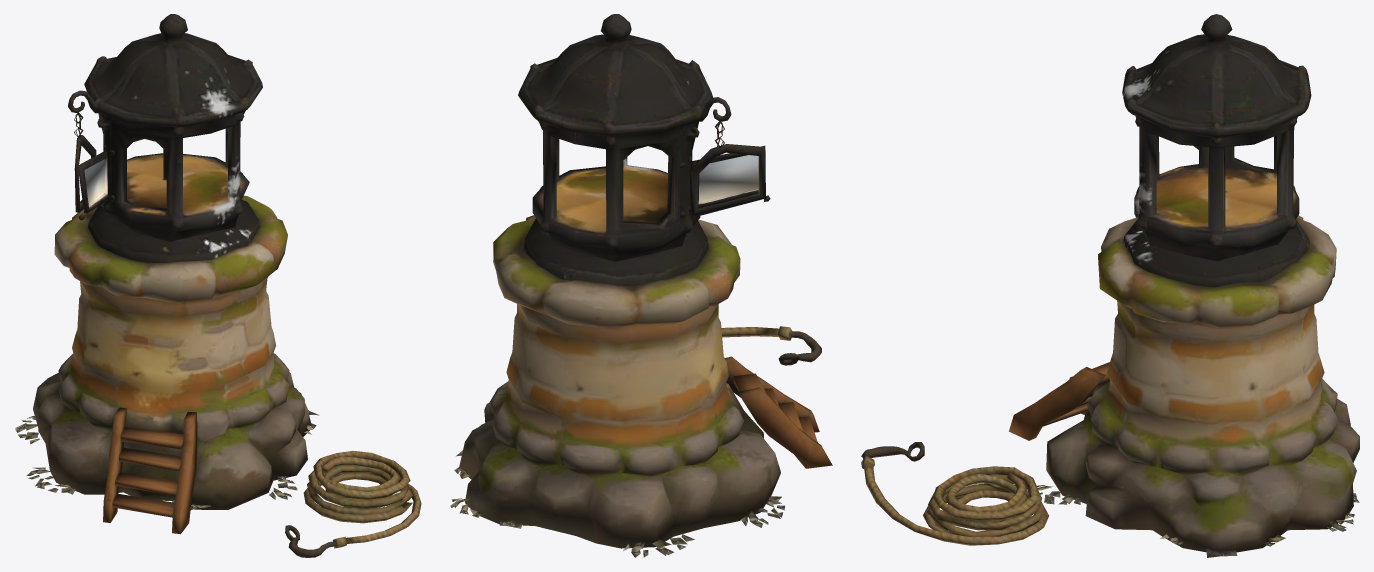
The model's file is wyn_quest_northern_beacon.glb.
3 renders of one model, left to right at view 1: azimuth 30°, elevation 25°; view 2: azimuth 150°, elevation 25°; view 3: azimuth 270°, elevation 25°, orthographic. The views are drawn at different scales.
Visible parts, largest first — view 1: tripo_node_5a299f58-e9e5-45ed-83d1-816a844b4ff6; view 2: tripo_node_5a299f58-e9e5-45ed-83d1-816a844b4ff6; view 3: tripo_node_5a299f58-e9e5-45ed-83d1-816a844b4ff6.
Part boxes in pixels (left/top/right/bottom): tripo_node_5a299f58-e9e5-45ed-83d1-816a844b4ff6: left=15, top=14, right=421, bottom=557; tripo_node_5a299f58-e9e5-45ed-83d1-816a844b4ff6: left=450, top=14, right=832, bottom=557; tripo_node_5a299f58-e9e5-45ed-83d1-816a844b4ff6: left=861, top=14, right=1359, bottom=557.
Size of the model in its own units: 4.86 by 7 by 6.75.
Materials: 1 (1 with a texture image).
